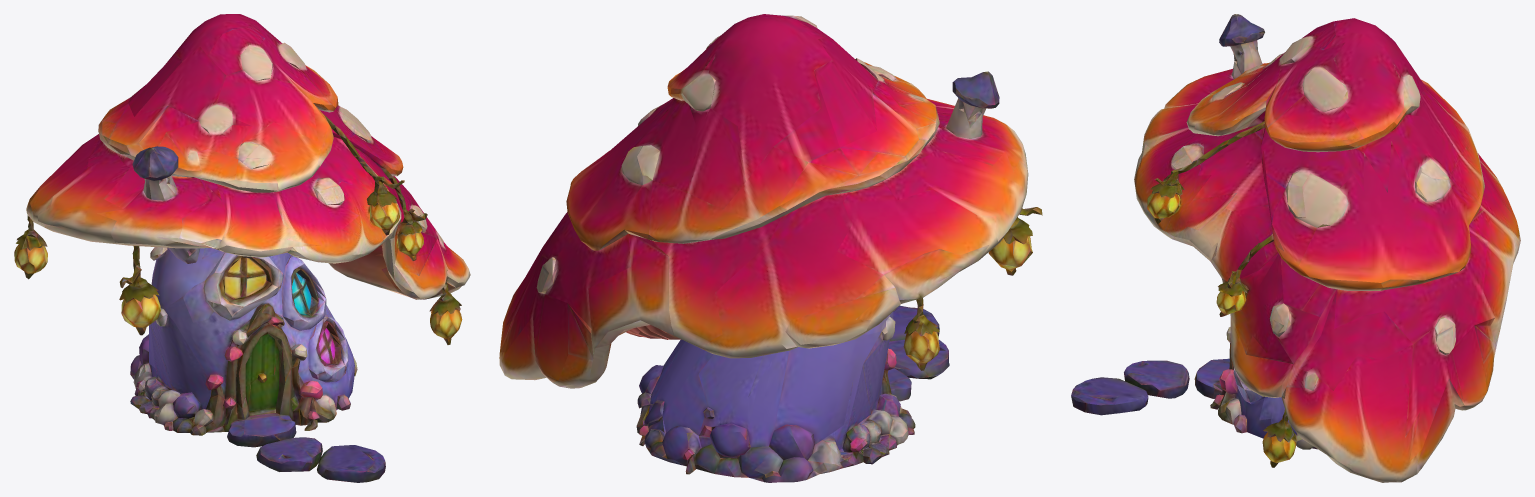
Rendered from mushroom-lantern.glb.
3 renders of one model, left to right at view 1: azimuth 30°, elevation 25°; view 2: azimuth 150°, elevation 25°; view 3: azimuth 270°, elevation 25°, orthographic. The views are drawn at different scales.
Visible parts, largest first — view 1: output_unwrapped; view 2: output_unwrapped; view 3: output_unwrapped.
Boxes of the visible parts, x1,y1,x2,y2 form: output_unwrapped: (14,14,470,482); output_unwrapped: (499,14,1042,482); output_unwrapped: (1071,14,1520,482).
Size of the model in its own units: 1.9 by 1.56 by 1.69.
Materials: 1 (1 with a texture image).
